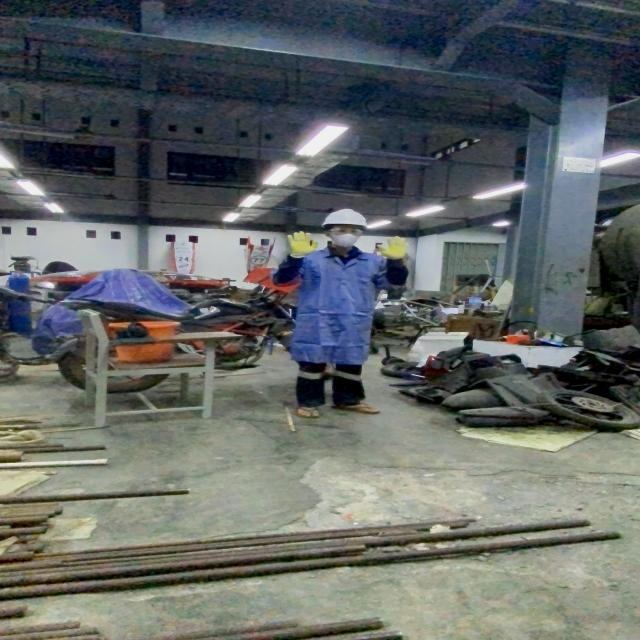face_mask: (324, 228, 364, 248)
glasses: (325, 226, 366, 235)
hand_glove: (282, 228, 321, 256), (373, 234, 410, 259)
head_helmet: (317, 208, 370, 228)
person: (260, 205, 426, 429)
